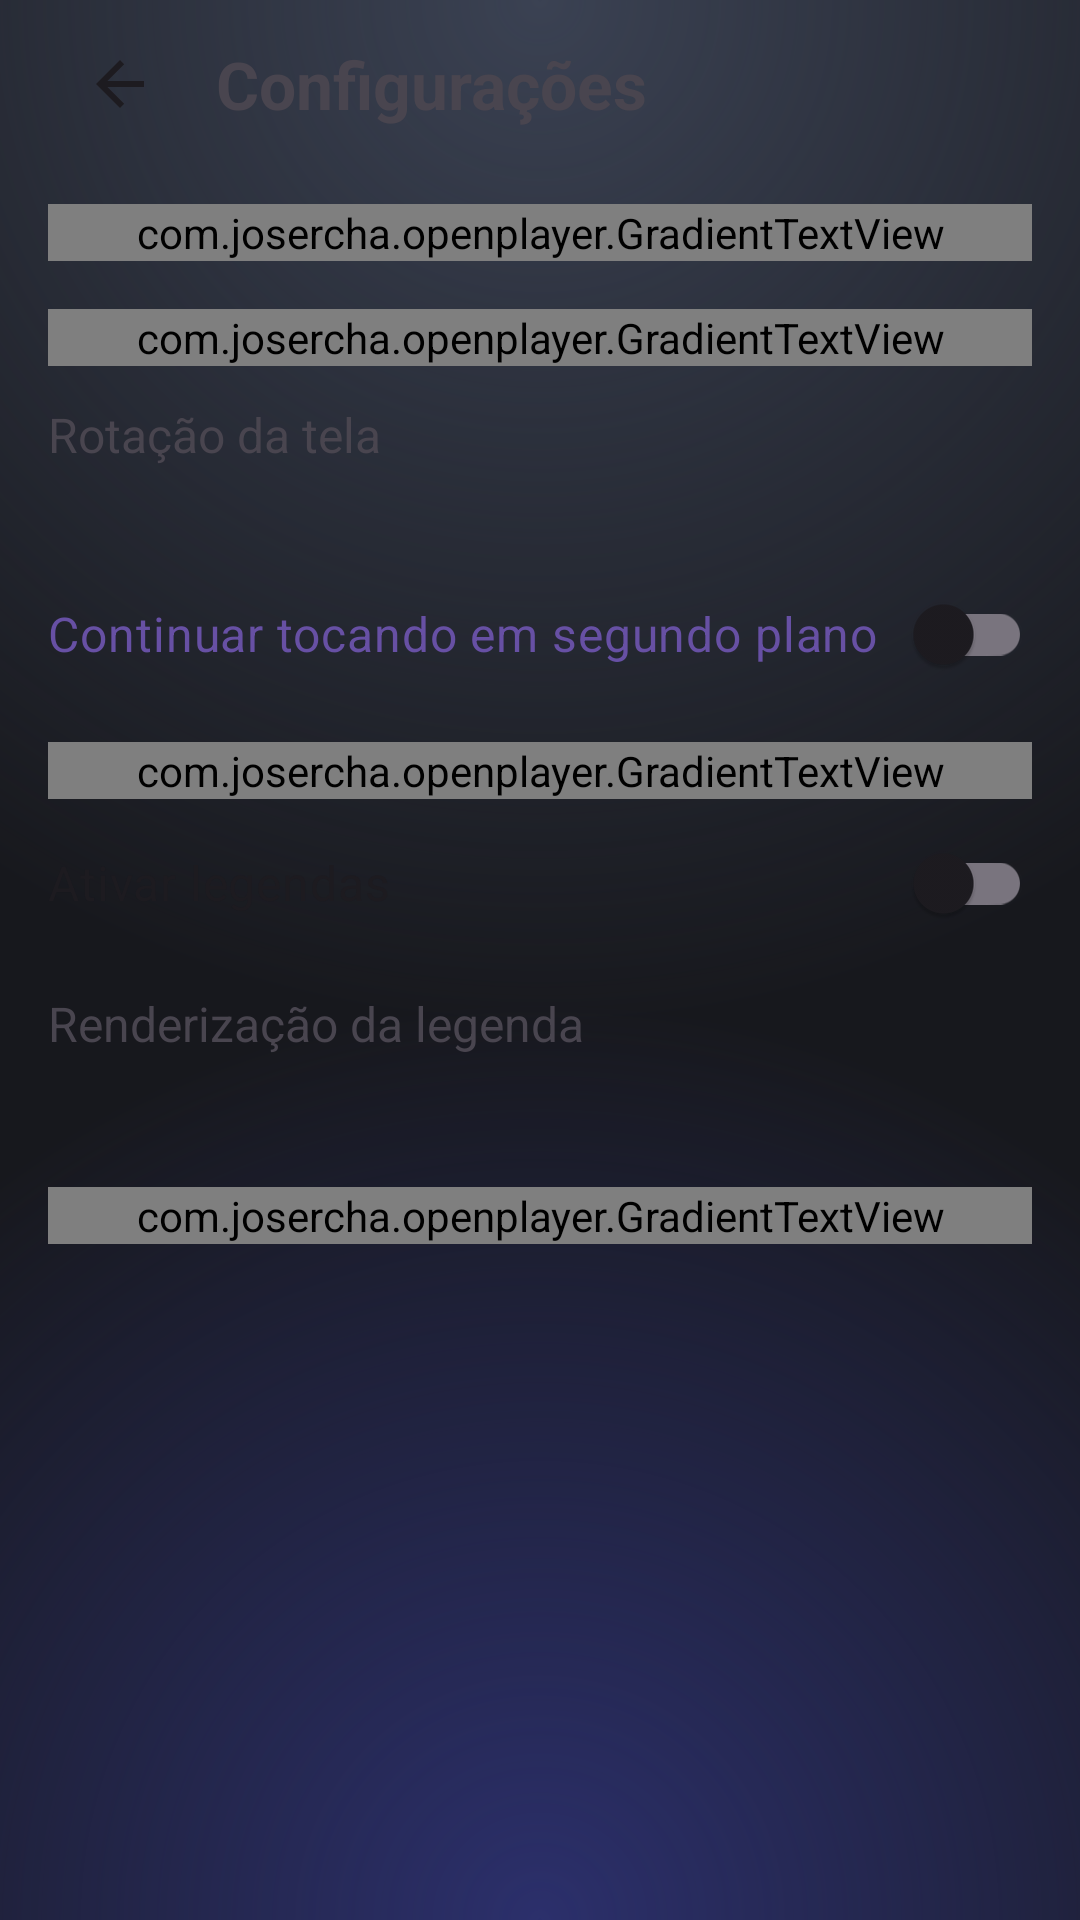

Where icons sit on this 1080 x 1920 app screen, as {"left": x1, "top": y1, "right": x2, "bottom": y2}:
Voltar: {"left": 97, "top": 61, "right": 144, "bottom": 107}
